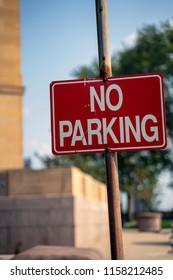No Parking: (46, 78, 165, 153)
